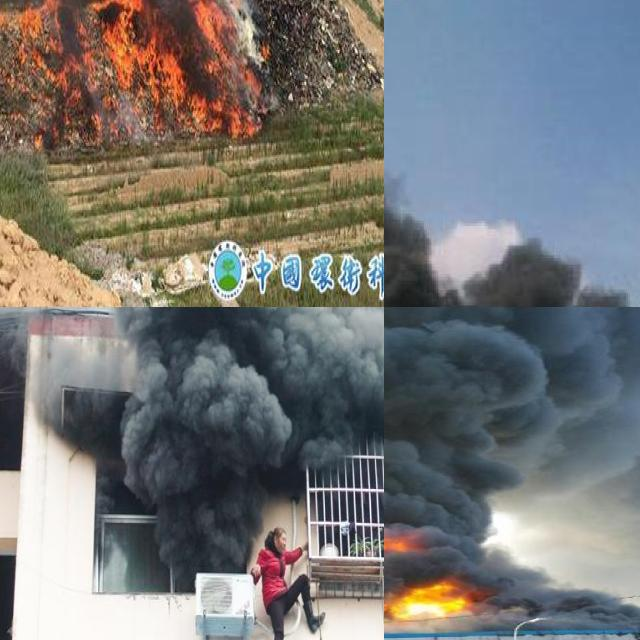fire: (0, 0, 271, 141), (384, 578, 472, 618)
smoke: (384, 307, 640, 640), (384, 0, 640, 307), (88, 307, 384, 397), (120, 464, 262, 574)
